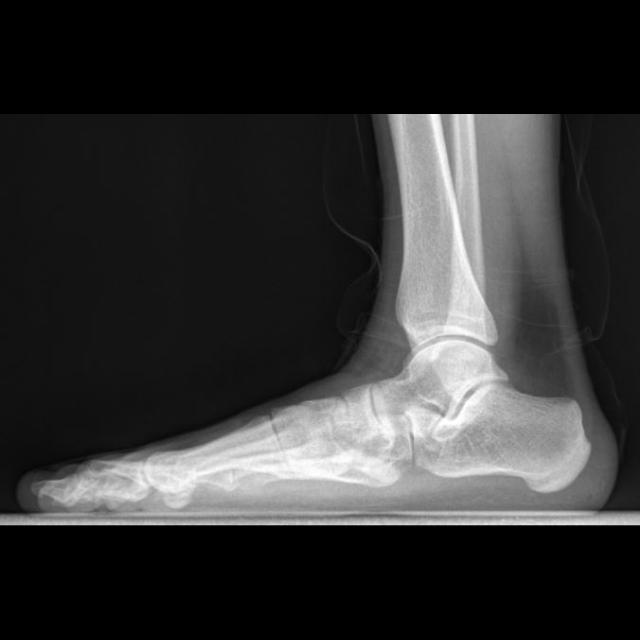a: (412, 383, 590, 491)
b: (337, 380, 391, 445)
c: (145, 416, 289, 495)
